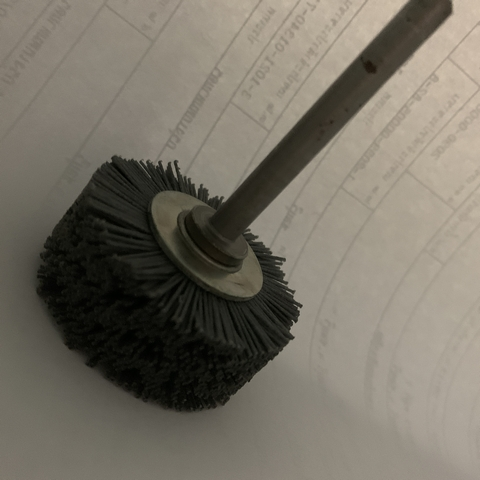Wheel Brush: (33, 1, 464, 416), (28, 19, 471, 398), (20, 104, 381, 418), (38, 116, 300, 418)
